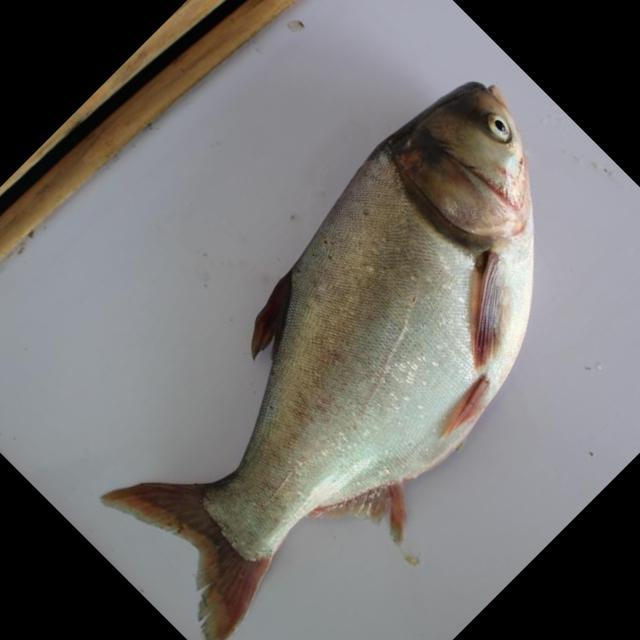SilverCarp: (108, 77, 526, 629)
